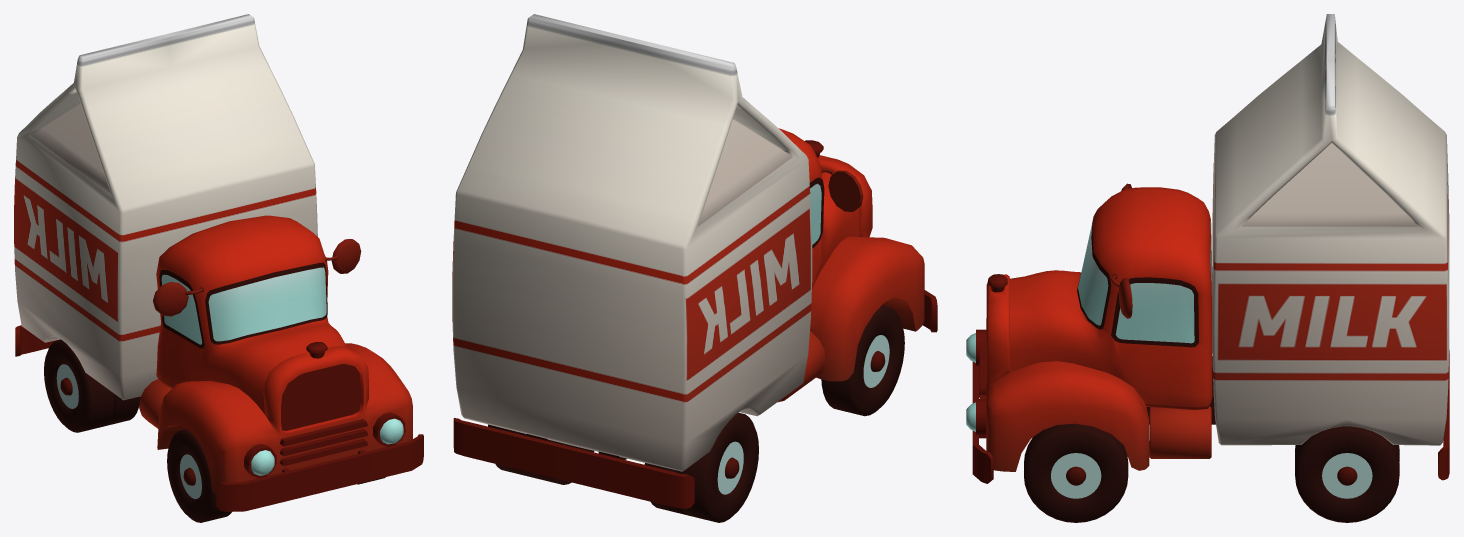
The model's file is MilkTruck00.fbx.
3 renders of one model, left to right at view 1: azimuth 30°, elevation 25°; view 2: azimuth 150°, elevation 25°; view 3: azimuth 270°, elevation 25°, orthographic. The views are drawn at different scales.
Visible parts, largest first — view 1: MilkTruck00.001; view 2: MilkTruck00.001; view 3: MilkTruck00.001.
Boxes of the visible parts, bbox=[...] form: MilkTruck00.001: bbox=[14, 14, 423, 522]; MilkTruck00.001: bbox=[452, 14, 937, 522]; MilkTruck00.001: bbox=[966, 14, 1449, 522].
Bounding box in the file's own units: 0.1969 × 0.3418 × 0.3606.
